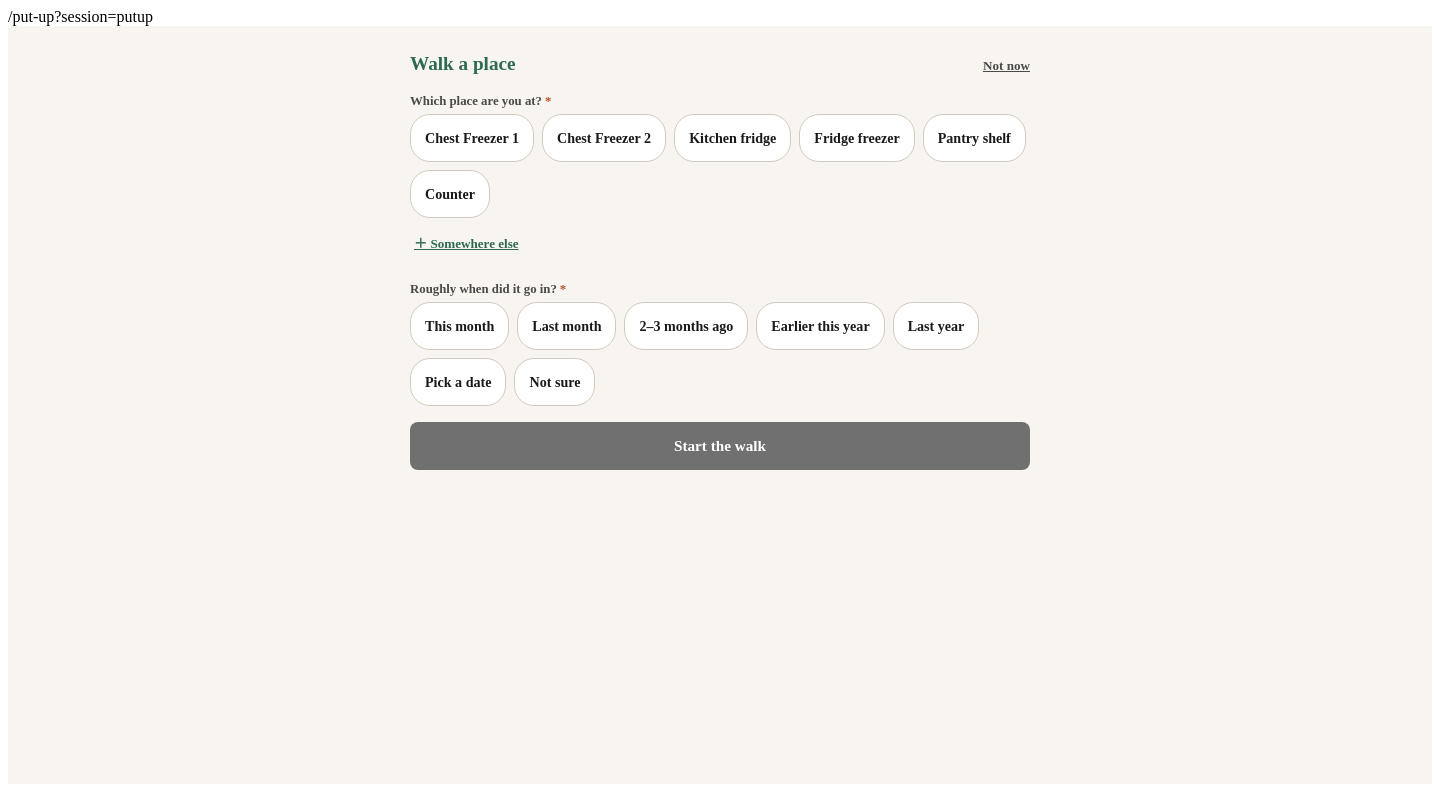
Test: setup: one place and one date for the sitting (required 2, nothing preselected) › SHOWS what it will record — an estimate in its words, Not sure as "not sure"
Click the radio button labelled "This month" at [460, 326], box x1=410 y1=302 x2=509 y2=350
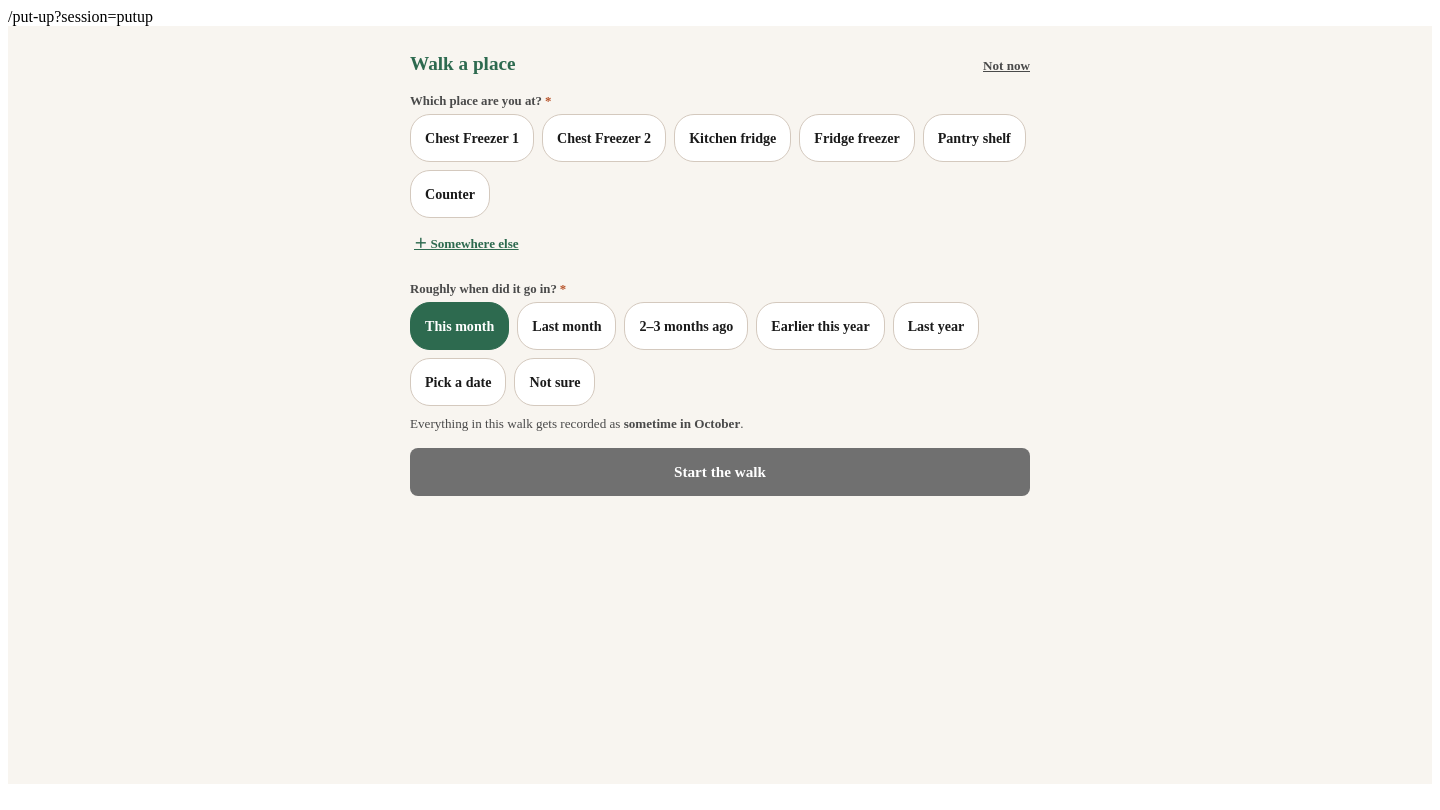
Result: the message with test id "putup-walk-date-resolved" shows "sometime in" at x1=624 y1=416 x2=740 y2=431
Click the radio button labelled "Not sure" at [555, 382], box x1=514 y1=358 x2=596 y2=406
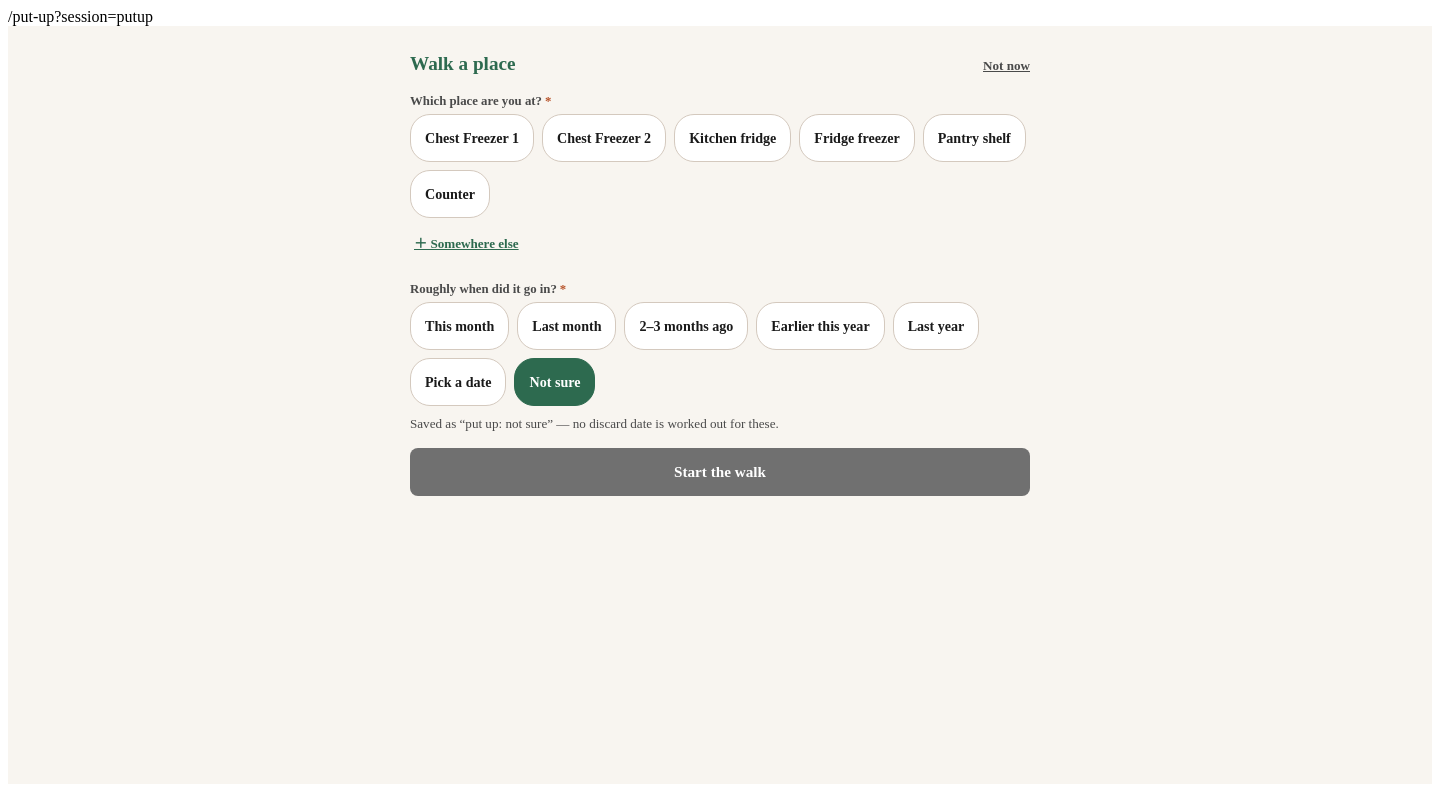
Result: the message with test id "putup-walk-date-resolved" shows "put up: not sure" at x1=410 y1=416 x2=779 y2=431
